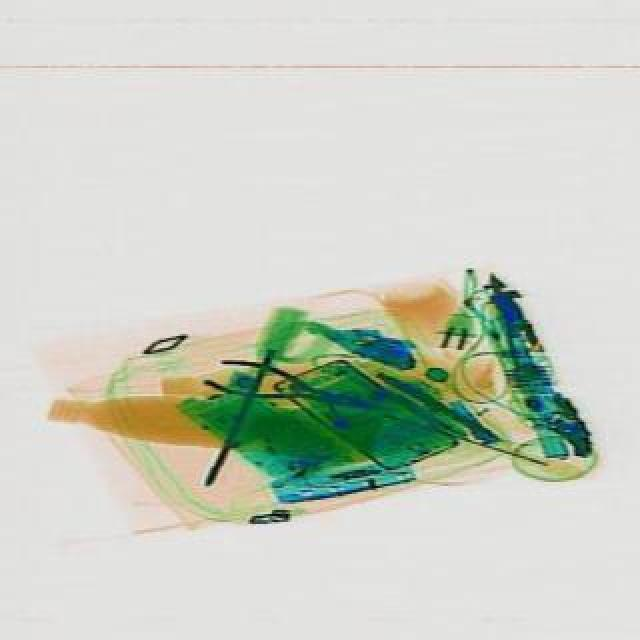wrench: (200, 350, 388, 430)
